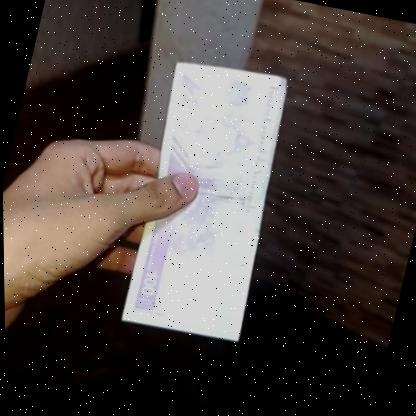one_hundred-back-vef: (113, 55, 303, 353)
